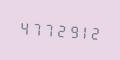four: (17, 17, 28, 37)
nine: (65, 20, 76, 41)
one: (77, 21, 88, 41)
seven: (29, 17, 40, 38), (41, 18, 52, 39)
two: (53, 19, 64, 40), (89, 22, 100, 42)
